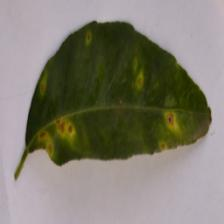canker: (25, 87, 152, 183)
